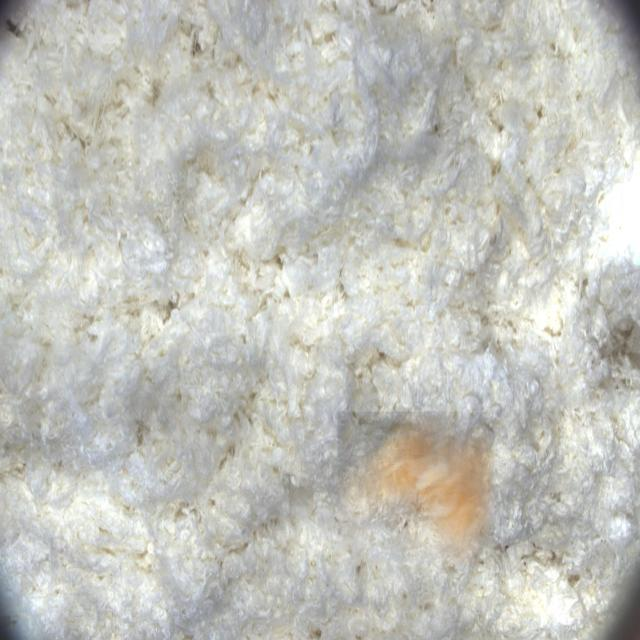dust: (337, 412, 494, 567)
